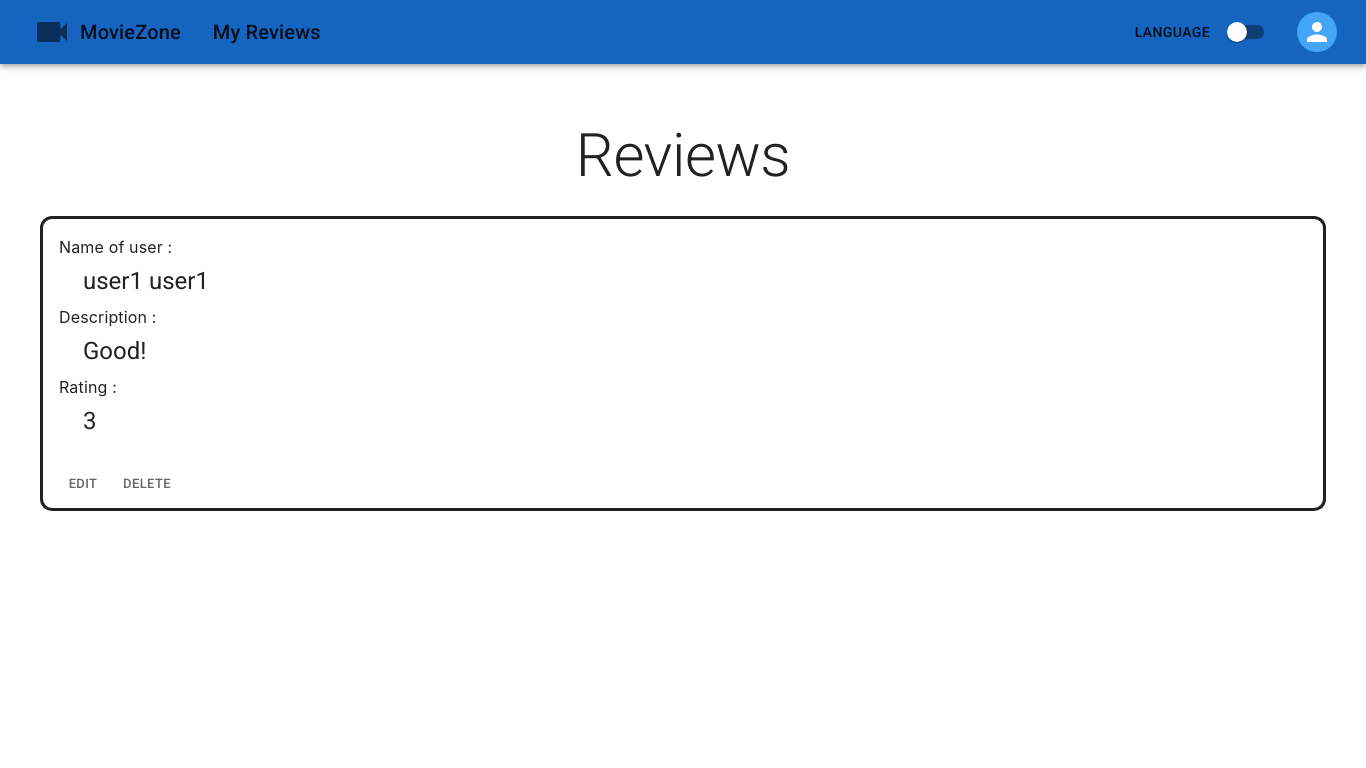
Test: review edit modal opens and shows correctly
What coordinates should you click on to do the following:
click the button "Edit"
I would click on:
 (83, 484)
Its box is 51,469 -> 115,500.
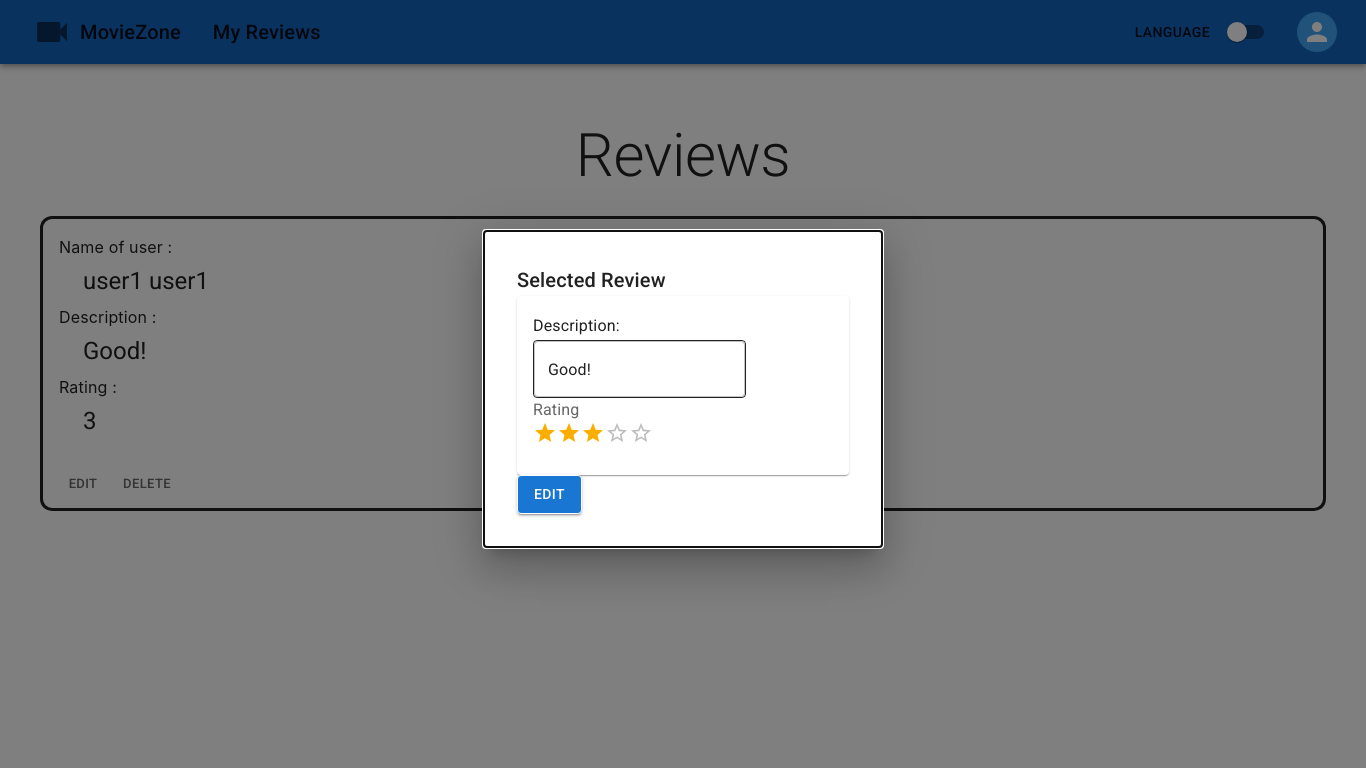
Now the field with test id "review-edit-modal-description" is shown, box 534,341 -> 745,397
Now the element with test id "review-edit-modal-rating" is shown, box 533,421 -> 653,445
Now the button "Edit" is shown, box 517,475 -> 582,514
